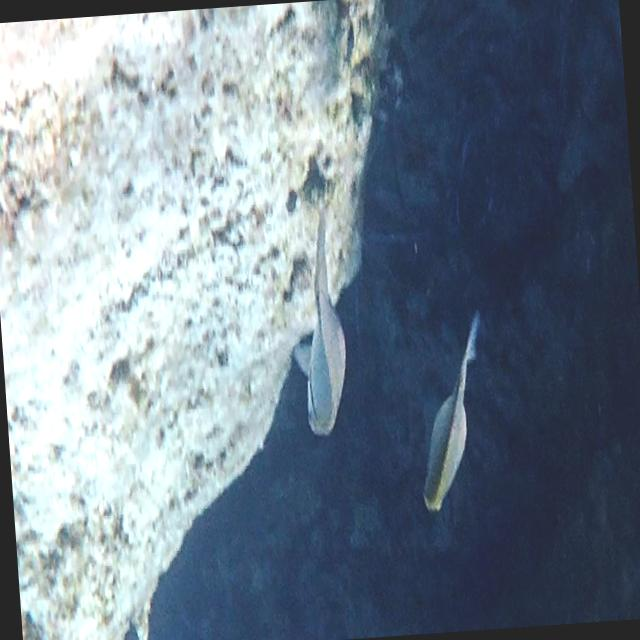Sokar Baligi: (398, 294, 512, 544), (276, 161, 368, 449)
